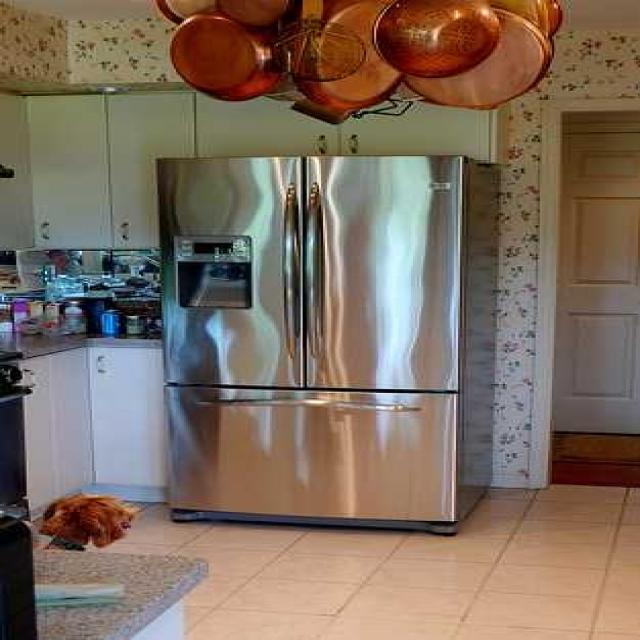refrigerator: (159, 149, 460, 542)
